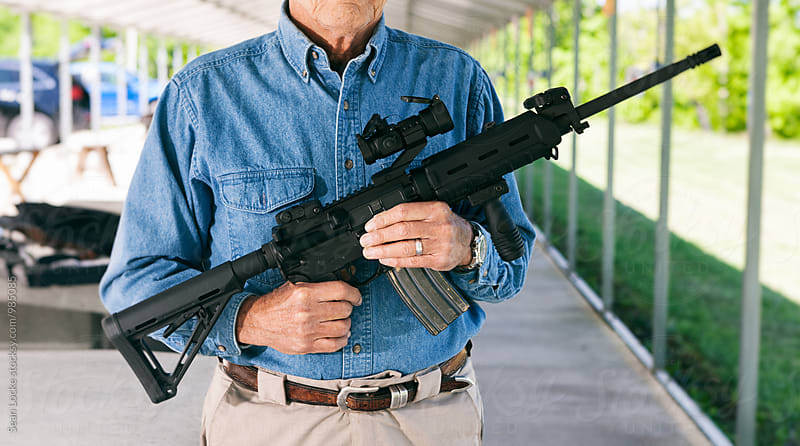Rifle: (100, 41, 729, 410)
